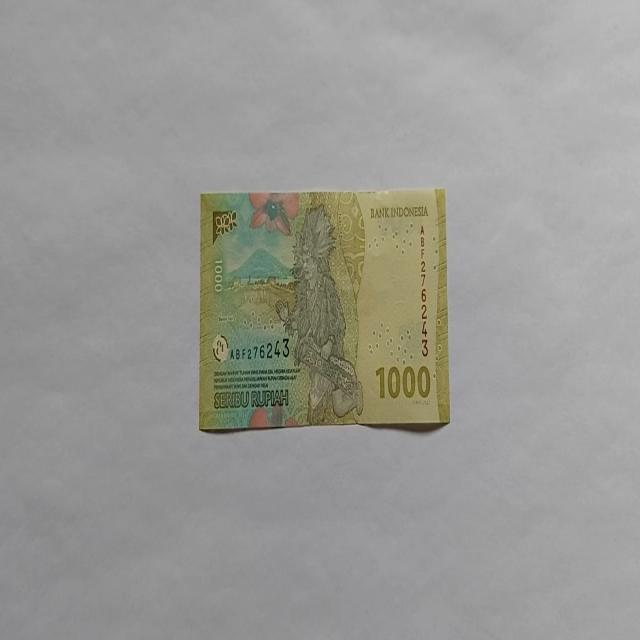seribu rupiah kertas: (198, 187, 450, 433)
